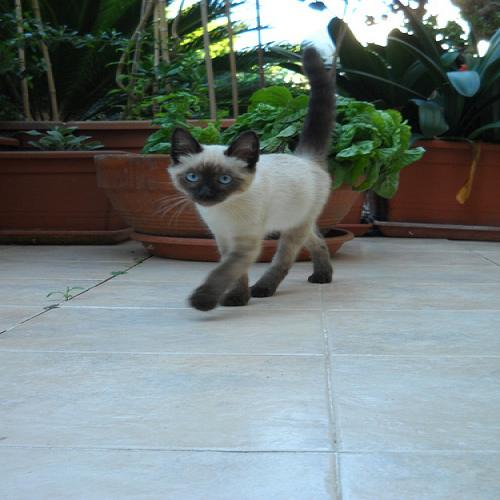siamese: (145, 120, 272, 217)
